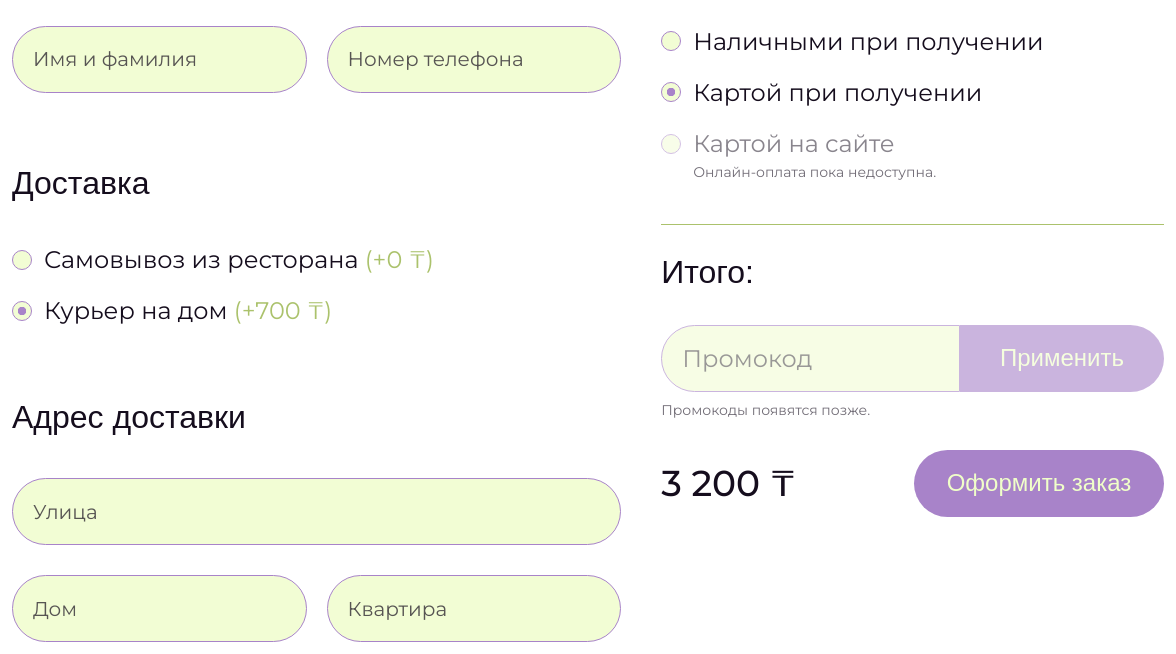
Test: CheckoutForm: переключение доставки › возврат к курьеру возвращает поля с ранее введёнными значениями
Expected: the button "Оформить заказ" is enabled, [914, 450, 1164, 517]
Type "Хрещатик" into the field labelled "Улица".
click(317, 512); type("Хрещатик")  # box [12, 478, 621, 545]
Type "25" into the field labelled "Дом".
click(159, 609); type("25")  # box [12, 575, 307, 642]
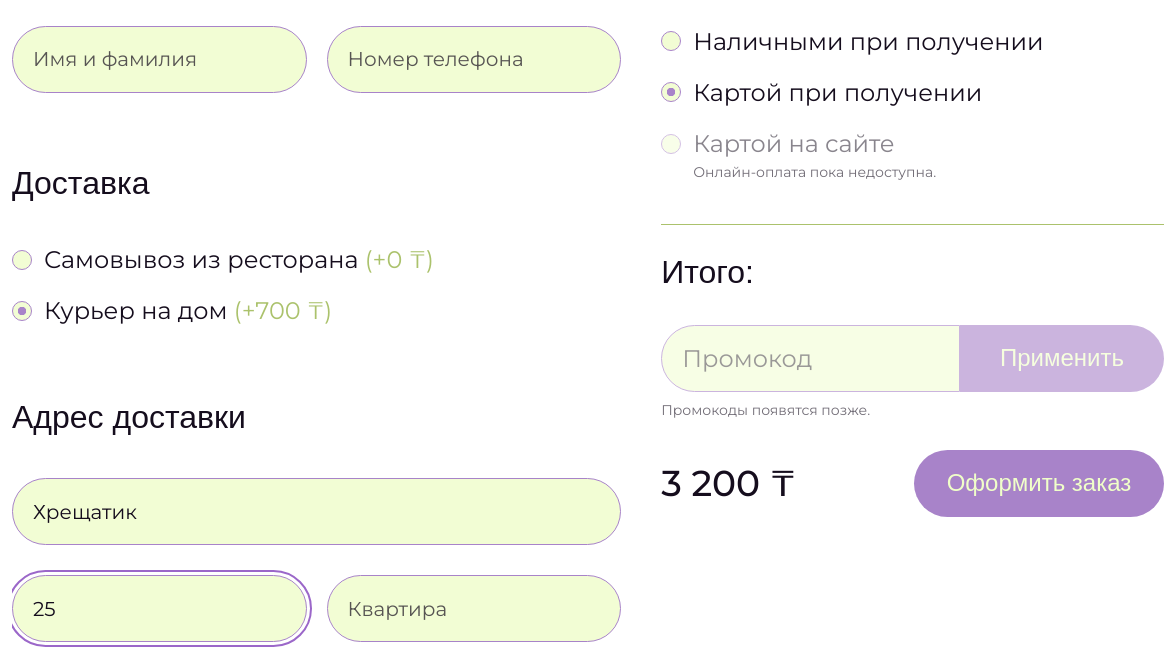
Type "12" into the field labelled "Квартира".
click(474, 609); type("12")  # box [327, 575, 621, 642]
(page scrolled)
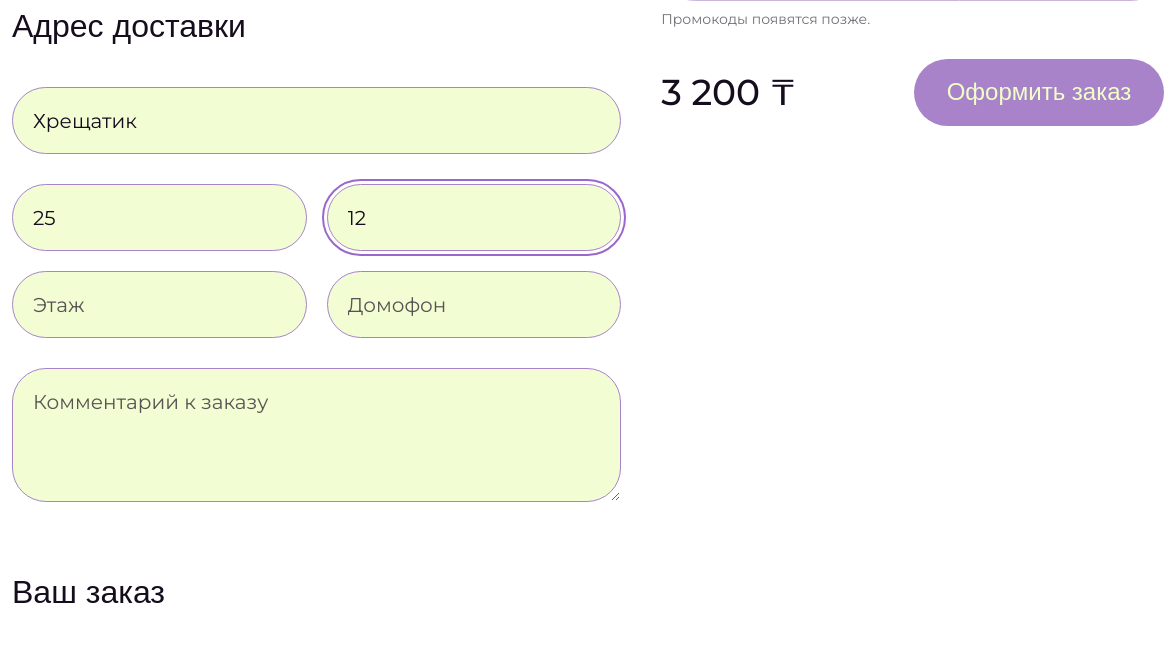
Type "3" into the field labelled "Этаж".
click(159, 305); type("3")  # box [12, 271, 307, 338]
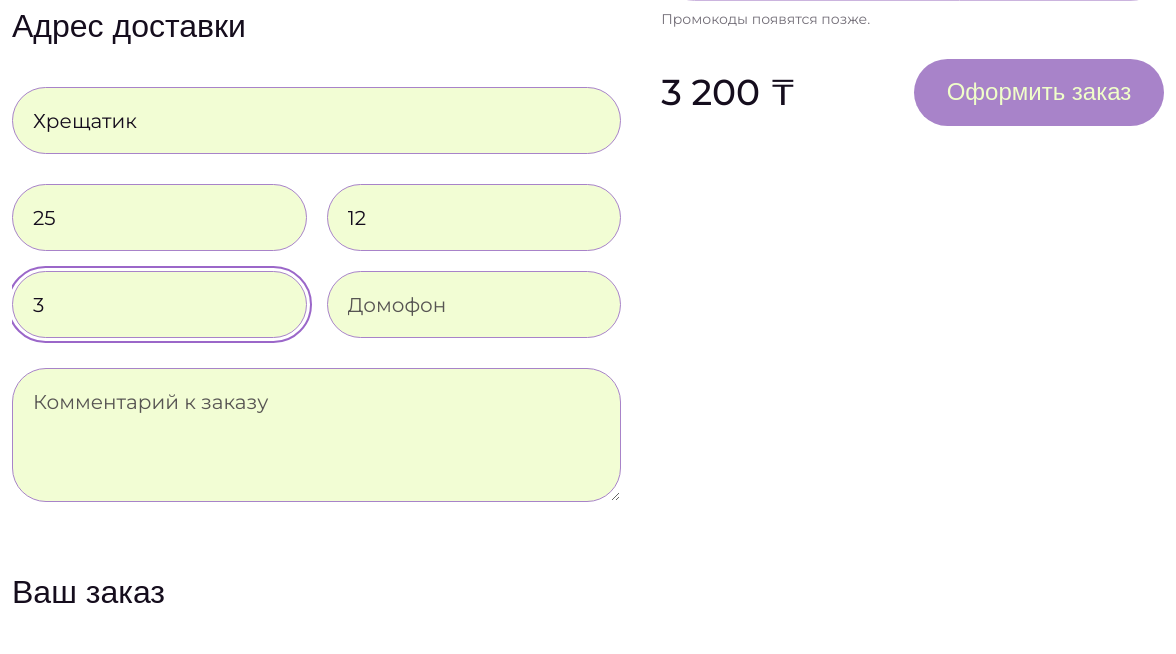
Type "12К" into the field labelled "Домофон".
click(474, 305); type("12К")  # box [327, 271, 621, 338]
(page scrolled)
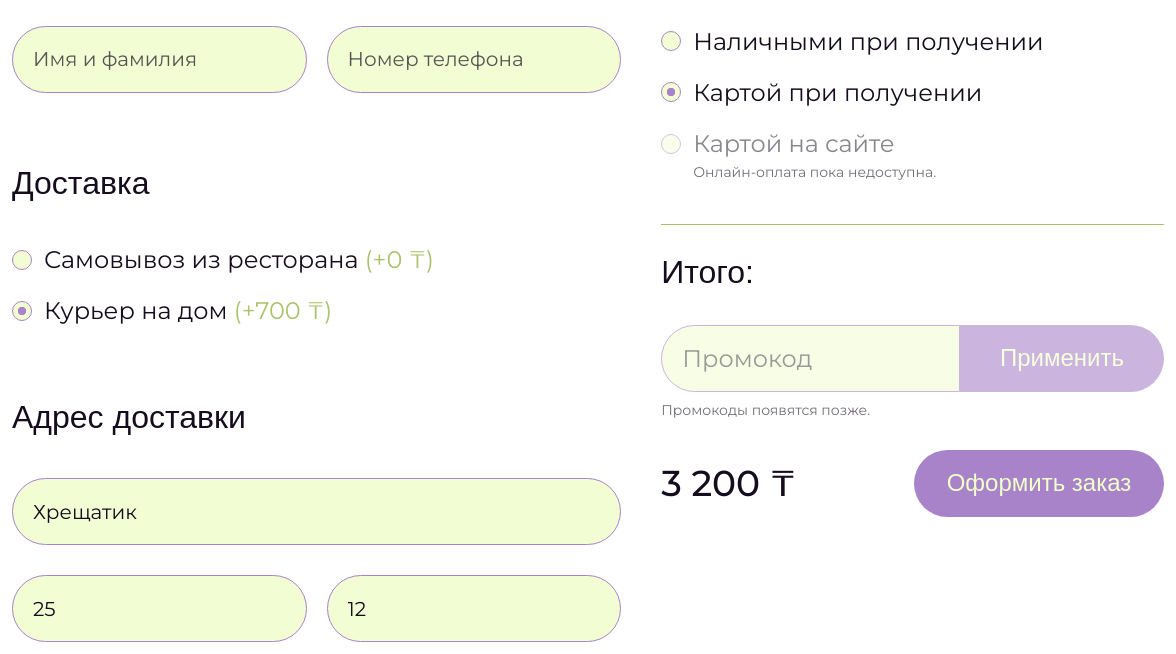
Click the radio button labelled "Самовывоз из ресторана (+0 ₸)".
click(22, 260)  # box [12, 250, 32, 270]
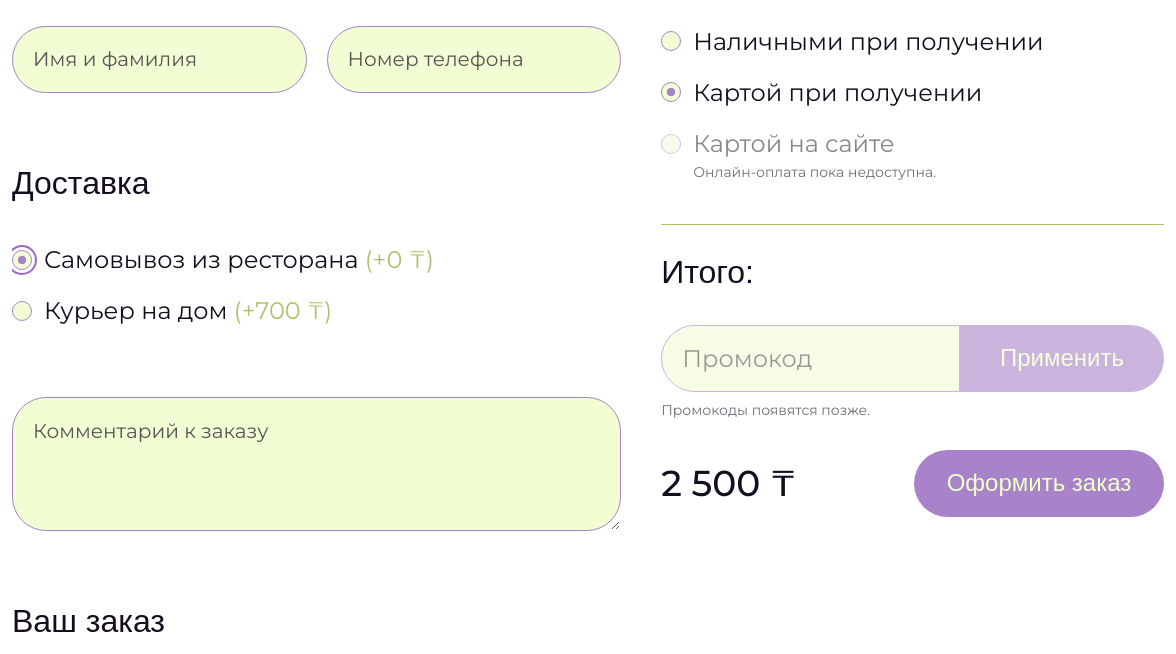
Expected: the field labelled "Улица" is gone
Click the radio button labelled "Курьер на дом (+700 ₸)".
click(22, 311)  # box [12, 301, 32, 321]
(page scrolled)
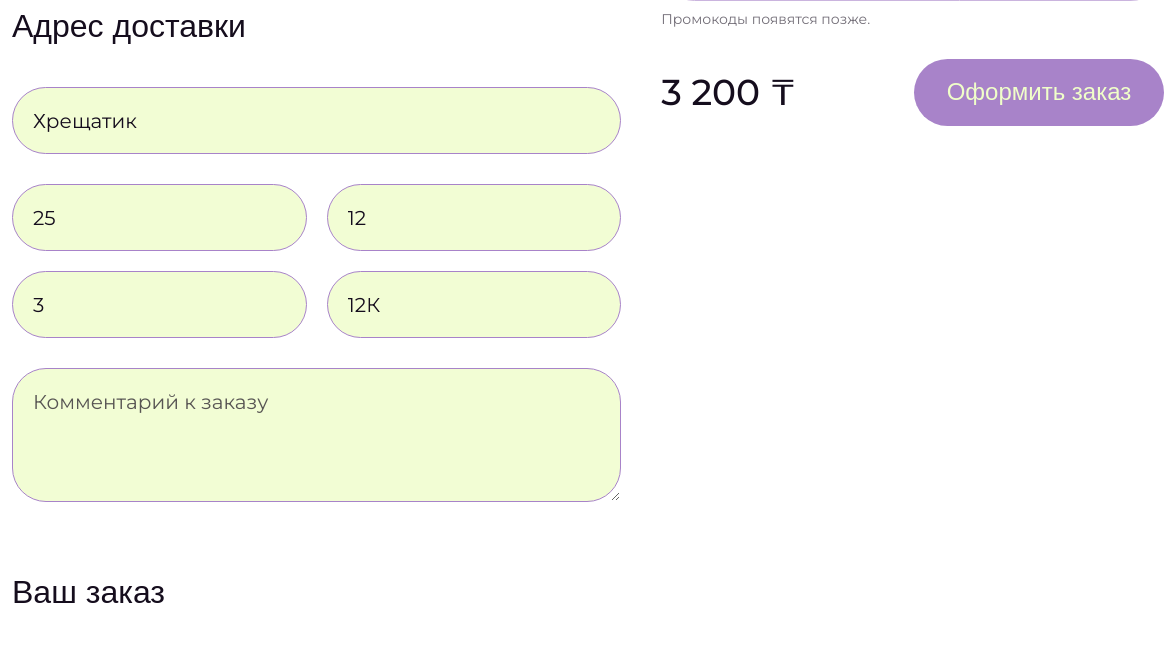
Expected: the field named "Улица" holds "Хрещатик", [12, 87, 621, 154]
Expected: the field named "Дом" holds "25", [12, 184, 307, 251]
Expected: the field named "Квартира" holds "12", [327, 184, 621, 251]
